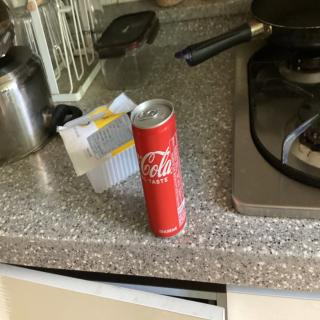cocacola: (129, 93, 193, 238)
